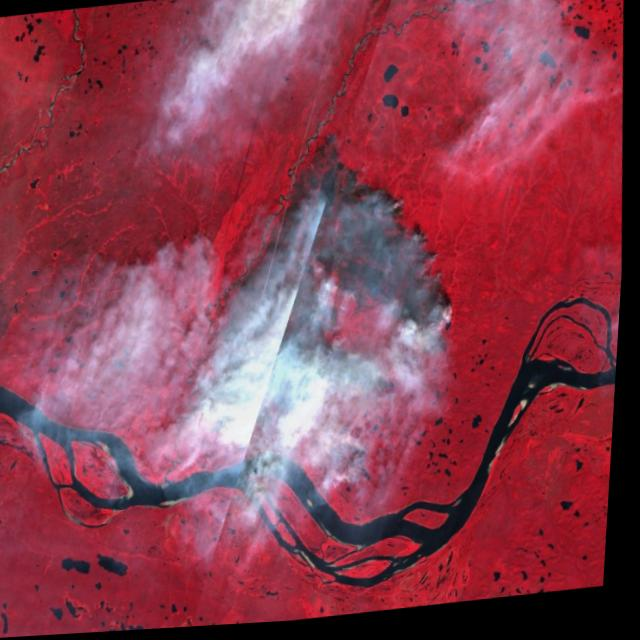fire: (177, 175, 480, 512)
